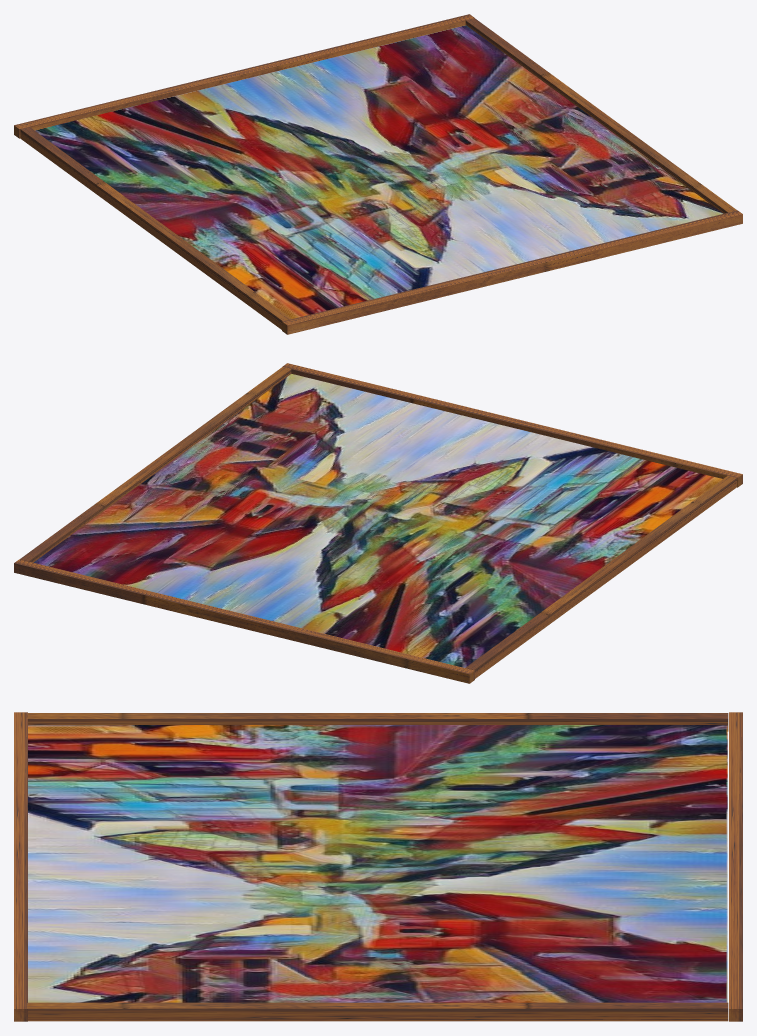
The model's file is painiting_1.glb.
3 views of the same model, one above another, from view 1: azimuth 30°, elevation 25°; view 2: azimuth 150°, elevation 25°; view 3: azimuth 270°, elevation 25° (orthographic). The views are drawn at different scales.
Visible parts, largest first — view 1: Cube; view 2: Cube; view 3: Cube.
Part boxes in pixels (x1,y1,x2,y2): Cube: (14,14,742,334); Cube: (14,363,742,683); Cube: (14,712,742,1021).
Size of the model in its own units: 10 by 0.2 by 10.39.
Materials: 3 (2 with a texture image).
